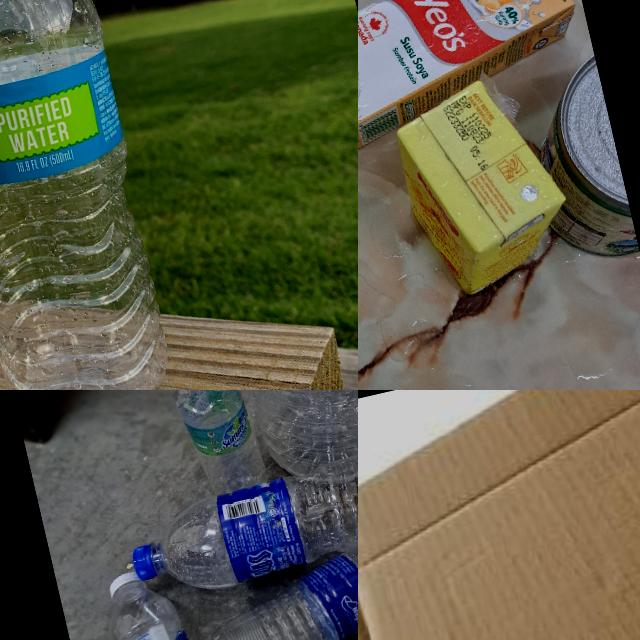caixinha: (384, 67, 581, 304), (358, 0, 596, 156)
garrafa plástica: (0, 0, 190, 390), (144, 432, 358, 600), (199, 534, 358, 640), (169, 390, 276, 517), (98, 573, 250, 640)
lata: (514, 55, 640, 272)
papelão: (358, 390, 640, 640)
tampa plástica: (125, 540, 161, 582), (104, 570, 140, 596)
